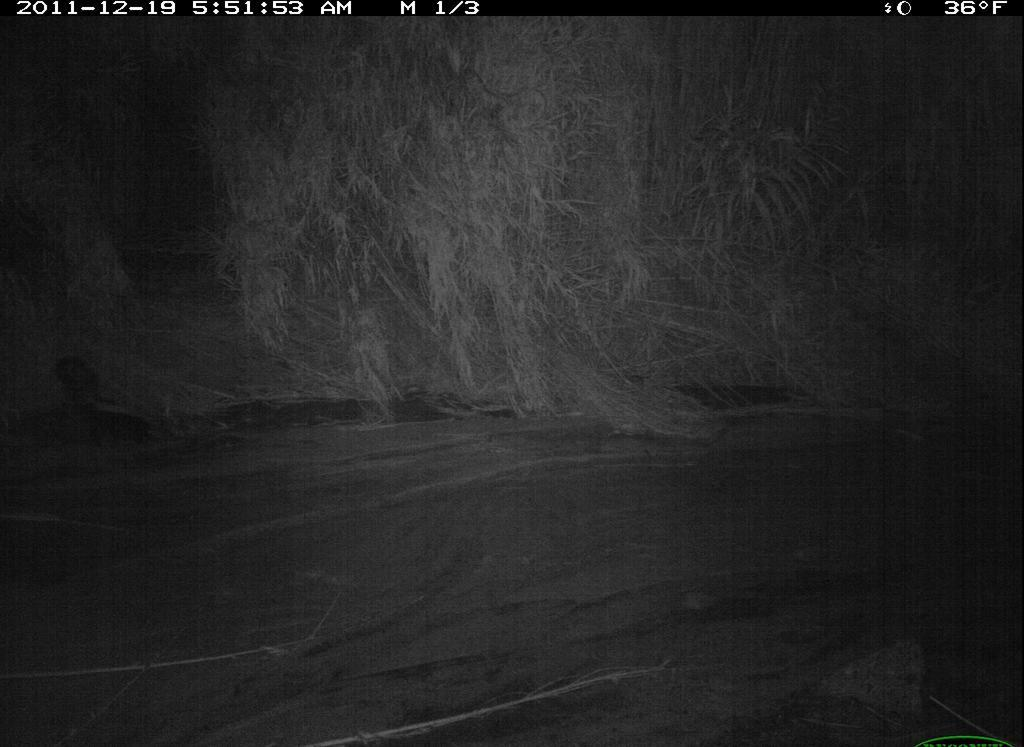skunk: (44, 341, 171, 461)
